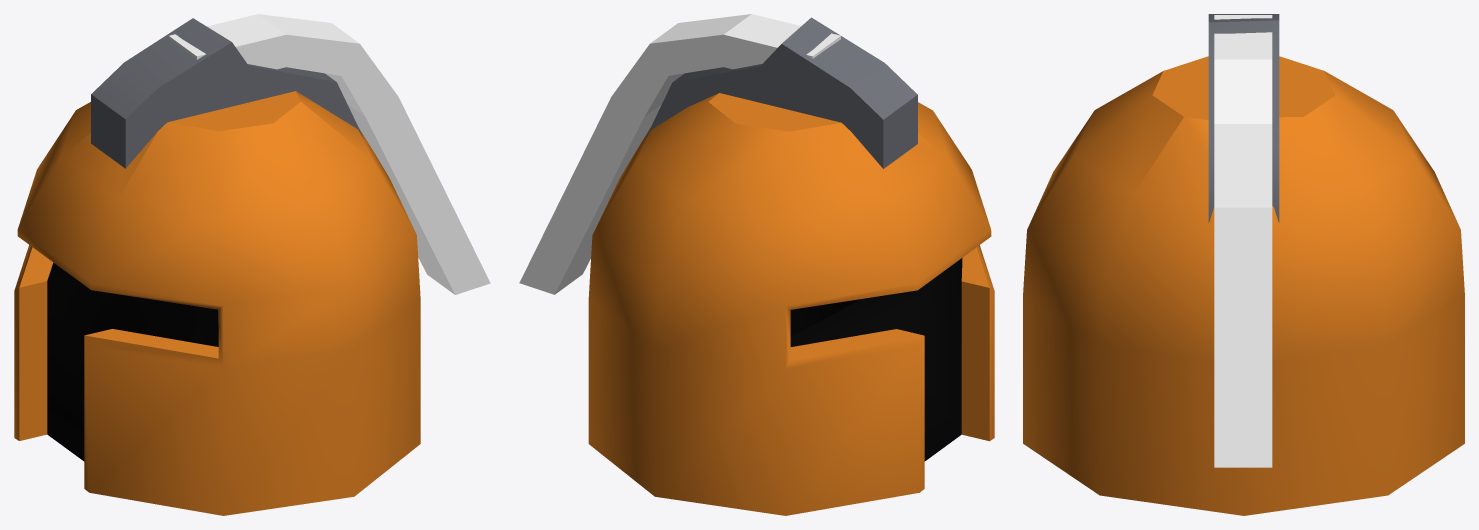
The model's file is Char_DK_Head.FBX.
3 renders of one model, left to right at view 1: azimuth 30°, elevation 25°; view 2: azimuth 150°, elevation 25°; view 3: azimuth 270°, elevation 25°, orthographic. The views are drawn at different scales.
Parts seen in each view (by area): view 1: Cylinder001; view 2: Cylinder001; view 3: Cylinder001.
Part boxes in pixels (left/top/right/bottom): Cylinder001: left=14, top=14, right=490, bottom=515; Cylinder001: left=519, top=14, right=994, bottom=515; Cylinder001: left=1023, top=14, right=1464, bottom=515.
Size of the model in its own units: 34.71 by 30.93 by 30.54.
